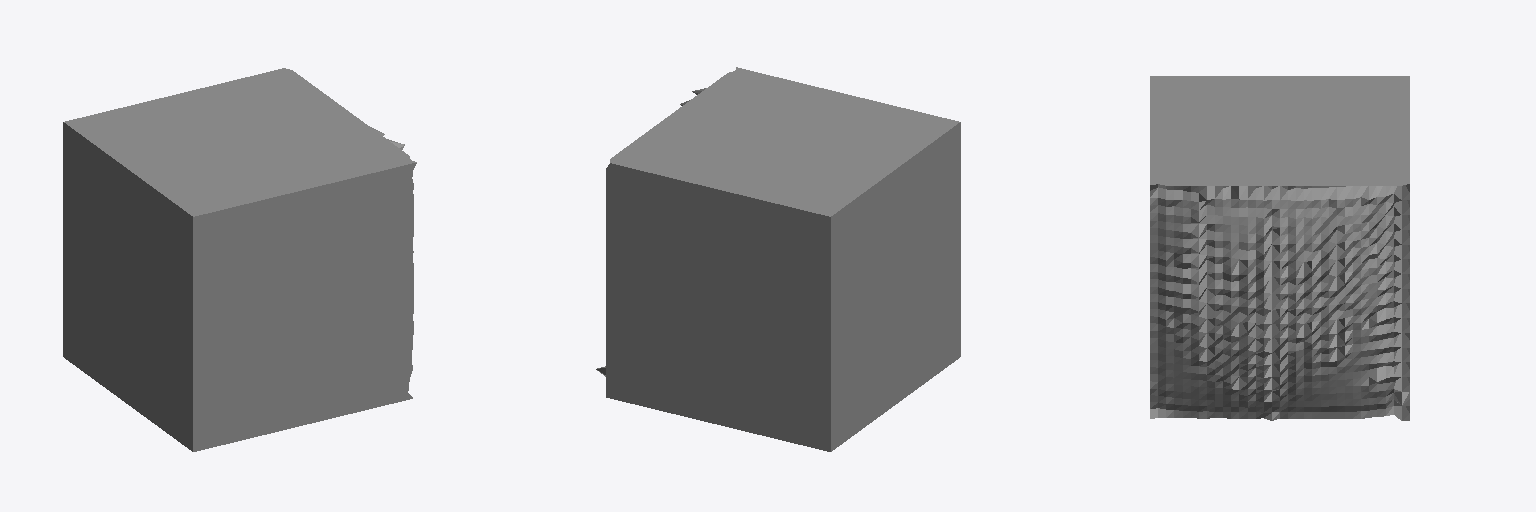
The model's file is optimize_result_3.obj.
The picture shows the model from 3 angles: view 1: azimuth 30°, elevation 25°; view 2: azimuth 150°, elevation 25°; view 3: azimuth 270°, elevation 25°; orthographic projection.
Parts seen in each view (by area): view 1: Cube_Cube.001; view 2: Cube_Cube.001; view 3: Cube_Cube.001.
Part boxes in pixels (bbox=[...]): Cube_Cube.001: bbox=[63, 68, 416, 451]; Cube_Cube.001: bbox=[596, 67, 960, 451]; Cube_Cube.001: bbox=[1150, 76, 1409, 420].
Bounding box in the file's own units: 11.35 × 10 × 10.